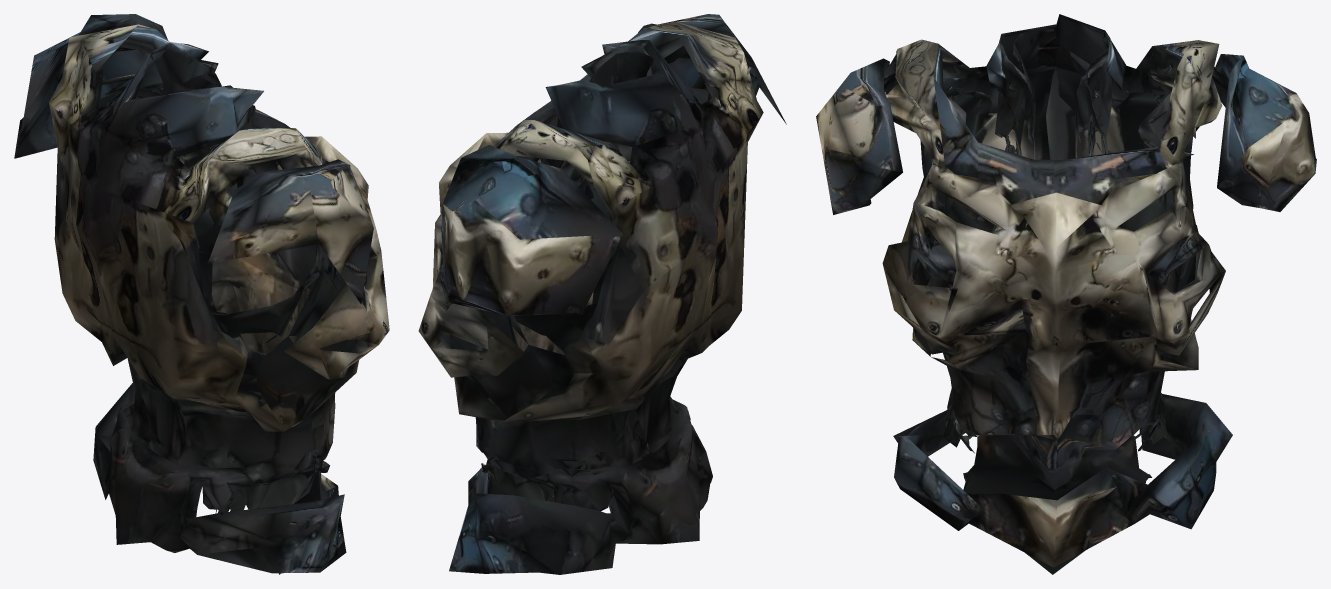
The picture shows the model from 3 angles, left to right: view 1: azimuth 30°, elevation 25°; view 2: azimuth 150°, elevation 25°; view 3: azimuth 270°, elevation 25°; orthographic projection. The views are drawn at different scales.
Visible parts, largest first — view 1: tripo_node_bc52e4ee-07e0-4cd2-a77a-84d31fe4f899; view 2: tripo_node_bc52e4ee-07e0-4cd2-a77a-84d31fe4f899; view 3: tripo_node_bc52e4ee-07e0-4cd2-a77a-84d31fe4f899.
Part boxes in pixels (x1,y1,x2,y2): tripo_node_bc52e4ee-07e0-4cd2-a77a-84d31fe4f899: (14,14,389,574); tripo_node_bc52e4ee-07e0-4cd2-a77a-84d31fe4f899: (418,14,786,574); tripo_node_bc52e4ee-07e0-4cd2-a77a-84d31fe4f899: (816,14,1316,574).
Bounding box in the file's own units: 0.5292 × 0.9626 × 0.8729.
1 material, 1 textured.
